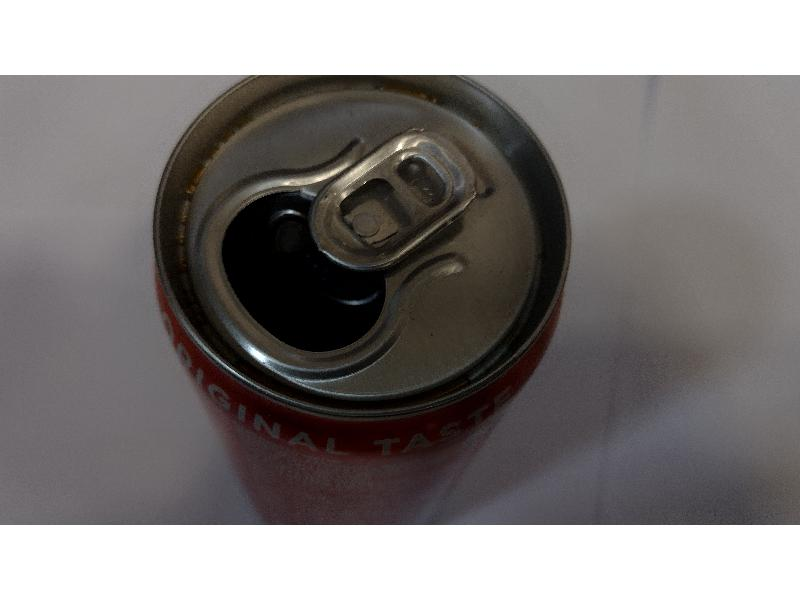can: (147, 75, 574, 502)
